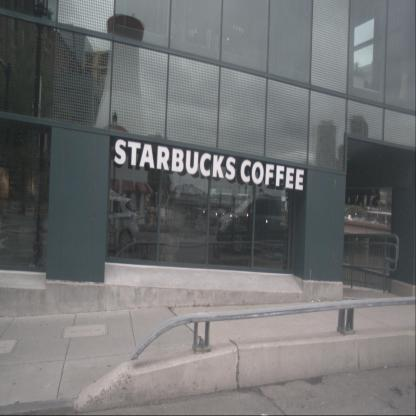vehicle-car: (214, 191, 309, 255), (42, 193, 138, 256)
